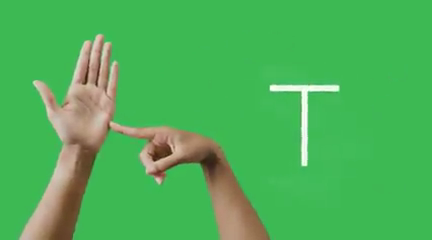T: (21, 26, 233, 198)
